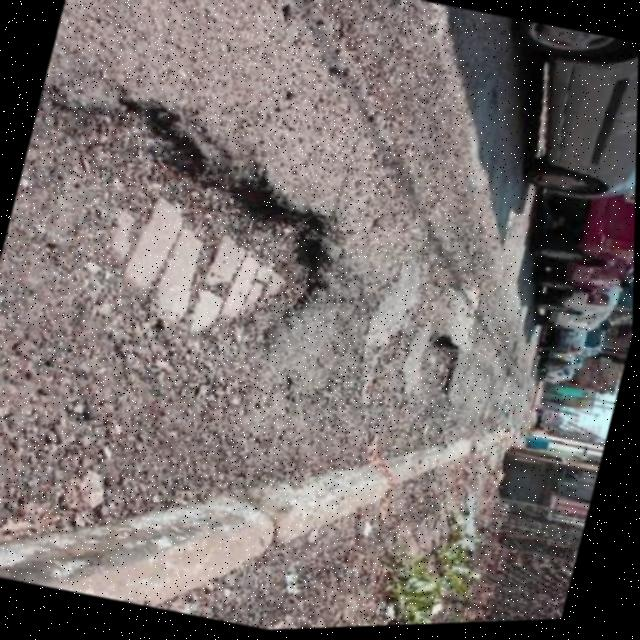Pothole: (0, 60, 368, 392), (413, 331, 474, 407)
